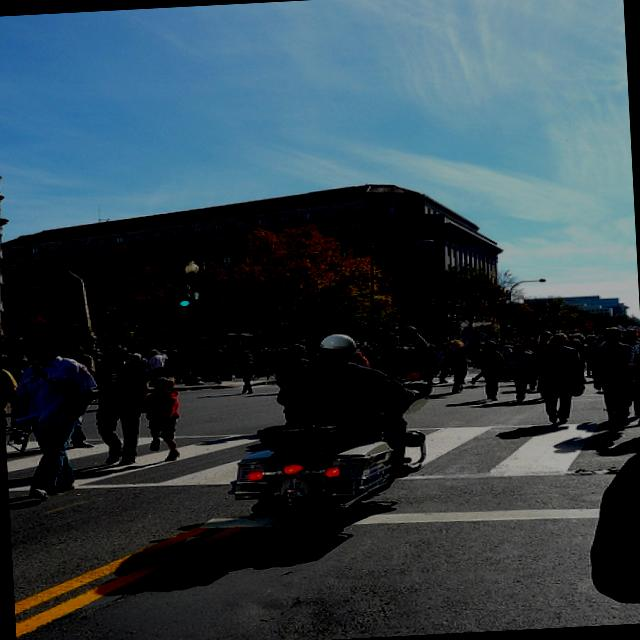Vehicle: (245, 408, 430, 552)
